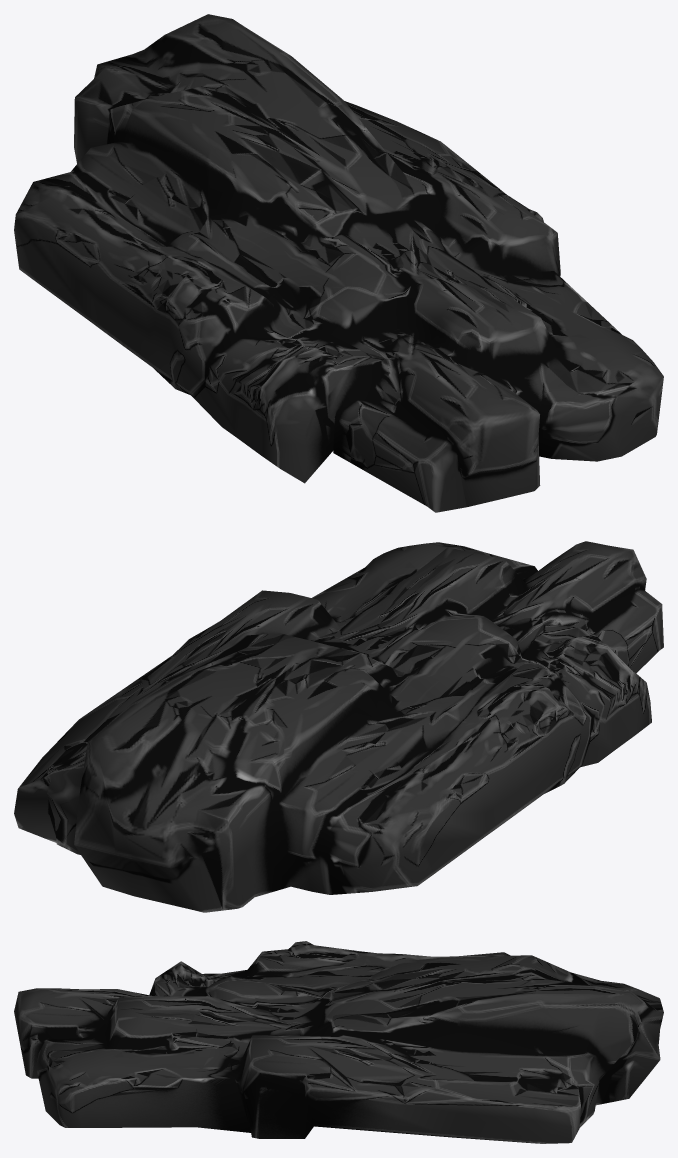
The model's file is roks.fbx.
3 renders of one model, top to bottom at view 1: azimuth 30°, elevation 25°; view 2: azimuth 150°, elevation 25°; view 3: azimuth 270°, elevation 25°, orthographic. The views are drawn at different scales.
Visible parts, largest first — view 1: roks; view 2: roks; view 3: roks.
Boxes of the visible parts, box(x1,y1,x2,y2) form: roks: box(14, 14, 663, 512); roks: box(14, 541, 663, 912); roks: box(14, 941, 663, 1143).
Bounding box in the file's own units: 2.76 × 1.18 × 5.41.
